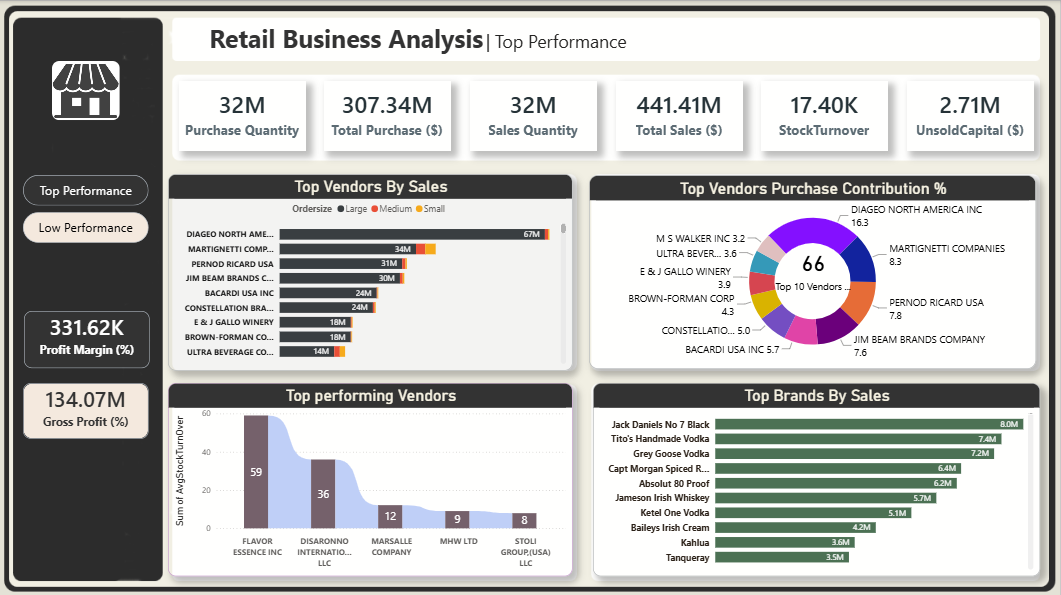

The page's visual inventory and layout, read from the dashboard file:
{"tool":"powerbi","page":{"name":"Top Performance ","canvas":[1600,900],"ordinal":0},"visuals":[{"type":"donutChart","title":"Top Vendors Purchase Contribution %","fields":{"Category":["PurchaseContribution.VendorName"],"Y":["Sum(PurchaseContribution.PurchaseContribution%)"]},"box":[891.2,263.2,672.7,292.5],"z":0},{"type":"advanceCardE03760C5AB684758B56AA29F9E6C257B","fields":{"mainMeasure":["Sum(PurchaseContribution.PurchaseContribution%)"]},"box":[1154.4,328.6,148,160],"z":1000},{"type":"barChart","title":"Top Vendors By Sales","fields":{"Category":["Business Performance Analysis.VendorName"],"Series":["Business_Summary.Ordersize_Sales"],"Y":["Sum(Business Performance Analysis.TotalSalesDollars)"]},"box":[258.1,261.5,609,295.9],"z":2000},{"type":"clusteredBarChart","title":"Top Brands By Sales","fields":{"Category":["Business Performance Analysis.Description"],"Y":["Sum(Business_Summary.TotalSalesDollars)"]},"box":[896.3,576.3,672.7,290.8],"z":3000},{"type":"cardVisual","fields":{"Data":["Sum(Business Performance Analysis.UnsoldCapital)"]},"box":[1369.5,122.2,191,104.9],"z":4000},{"type":"cardVisual","fields":{"Data":["Sum(Business_Summary.TotalPurchaseDollars)"]},"box":[492.7,122.2,191,104.9],"z":8000},{"type":"cardVisual","fields":{"Data":["Sum(Business_Summary.TotalSalesQuantity)"]},"box":[711.9,122.2,191,104.9],"z":9000},{"type":"cardVisual","fields":{"Data":["Sum(Business_Summary.TotalSalesDollars)"]},"box":[931.1,122.2,191,104.9],"z":10000},{"type":"cardVisual","fields":{"Data":["Sum(Business_Summary.StockTurnover)"]},"box":[1150.3,122.2,191,104.9],"z":11000},{"type":"cardVisual","fields":{"Data":["Sum(Business_Summary.TotalPurchaseQuantity)"]},"box":[273.5,122.2,191,104.9],"z":12000},{"type":"ribbonChart","title":"Top performing Vendors","fields":{"Category":["TopTurnoverVendor.VendorName"],"Y":["Sum(TopTurnoverVendor.AvgStockTurnOver)"]},"box":[258.1,576.3,609,290.8],"z":13000},{"type":"textbox","box":[314.8,27.5,942.8,63.7],"z":13001},{"type":"cardVisual","fields":{"Data":["Sum(Business Performance Analysis.GrossProfit)"]},"box":[39.6,576.3,189.2,84.3],"z":13002},{"type":"cardVisual","fields":{"Data":["Sum(Business Performance Analysis.ProfitMargin)"]},"box":[41.3,468,189.2,86],"z":13003},{"type":"pageNavigator","box":[39.6,263.2,189.2,103.2],"z":13004},{"type":"image","box":[82.6,91.2,101.5,89.5],"z":13005}]}

Visuals, with their boxes in screenshot pixels (x1, y1, x2, y2), scaled from the page's 1600x900 canvas onto the 1061x595 screenshot:
"Top Vendors Purchase Contribution %" donutChart: Rect(591, 174, 1037, 367)
advanceCardE03760C5AB684758B56AA29F9E6C257B - Sum(PurchaseContribution.PurchaseContribution%): Rect(766, 217, 864, 323)
"Top Vendors By Sales" barChart: Rect(171, 173, 575, 369)
"Top Brands By Sales" clusteredBarChart: Rect(594, 381, 1040, 573)
cardVisual - Sum(Business Performance Analysis.UnsoldCapital): Rect(908, 81, 1035, 150)
cardVisual - Sum(Business_Summary.TotalPurchaseDollars): Rect(327, 81, 453, 150)
cardVisual - Sum(Business_Summary.TotalSalesQuantity): Rect(472, 81, 599, 150)
cardVisual - Sum(Business_Summary.TotalSalesDollars): Rect(617, 81, 744, 150)
cardVisual - Sum(Business_Summary.StockTurnover): Rect(763, 81, 889, 150)
cardVisual - Sum(Business_Summary.TotalPurchaseQuantity): Rect(181, 81, 308, 150)
"Top performing Vendors" ribbonChart: Rect(171, 381, 575, 573)
textbox: Rect(209, 18, 834, 60)
cardVisual - Sum(Business Performance Analysis.GrossProfit): Rect(26, 381, 152, 437)
cardVisual - Sum(Business Performance Analysis.ProfitMargin): Rect(27, 309, 153, 366)
pageNavigator: Rect(26, 174, 152, 242)
image: Rect(55, 60, 122, 119)
